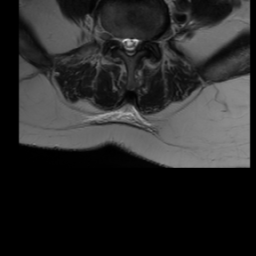CCS_normal: (127, 30, 133, 62)
LFS_severe_stenosis: (141, 31, 150, 53)
LLS_stenosis: (133, 31, 141, 55)
RFS_stenosis: (112, 29, 121, 52)
RLS_normal: (120, 30, 127, 53)
